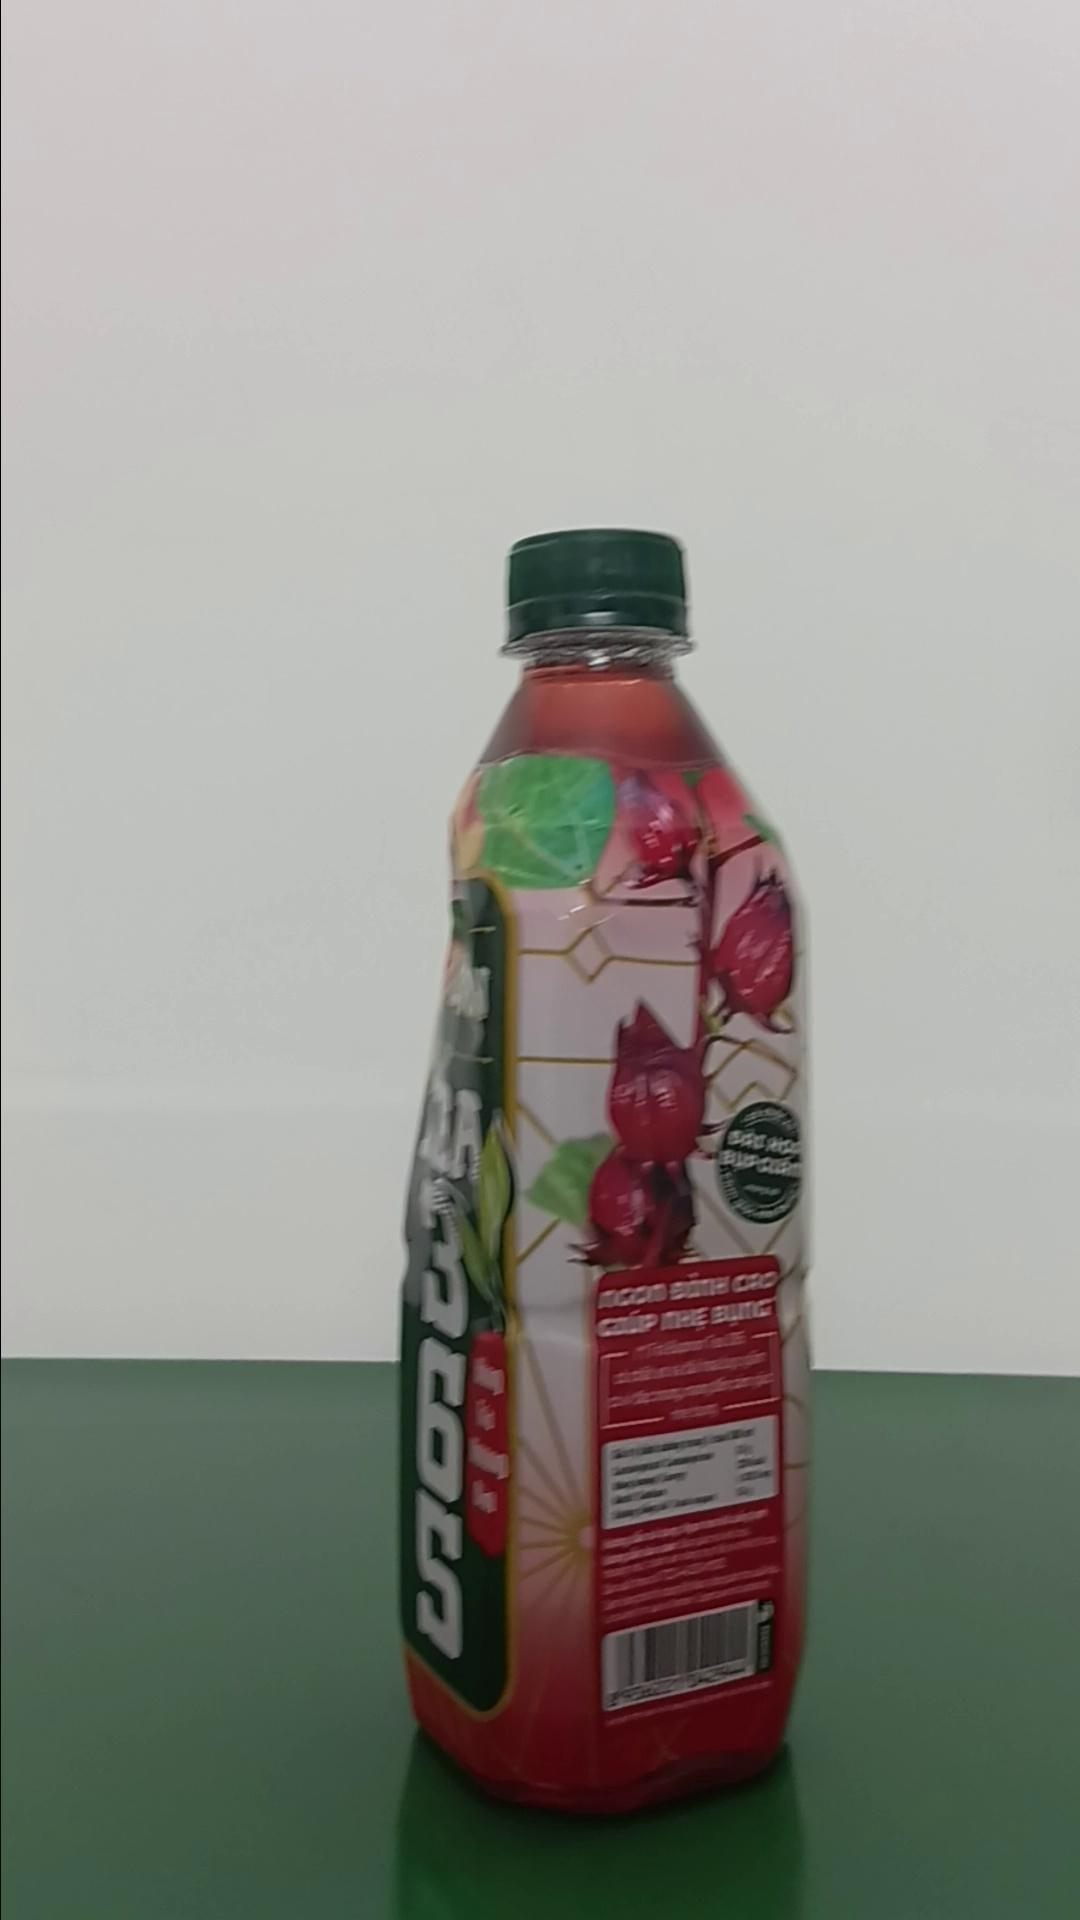loi meo sp: (392, 524, 816, 1816)
